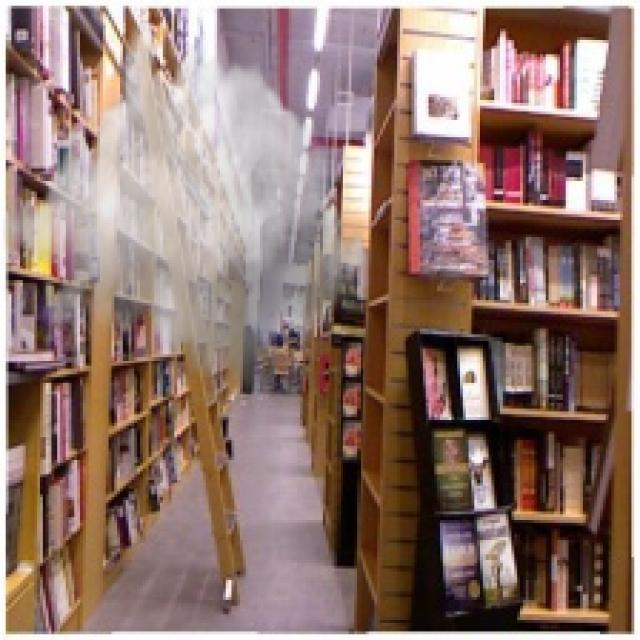Smoke: (2, 20, 372, 403)
